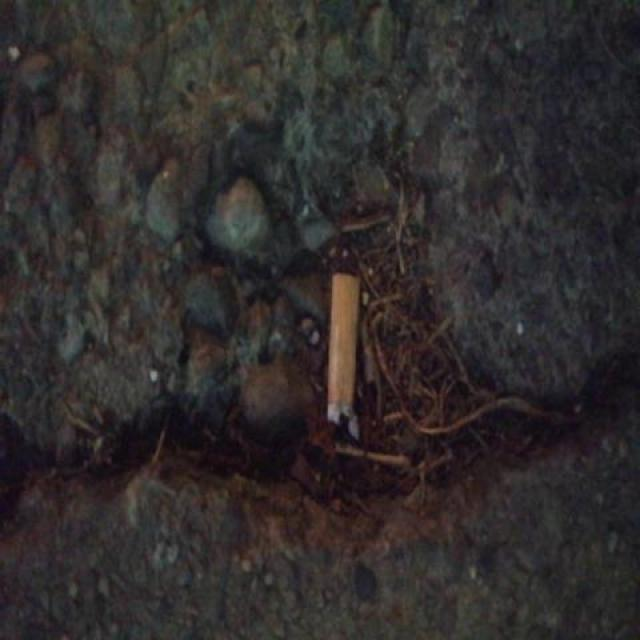non-organic waste: (322, 268, 363, 449)
